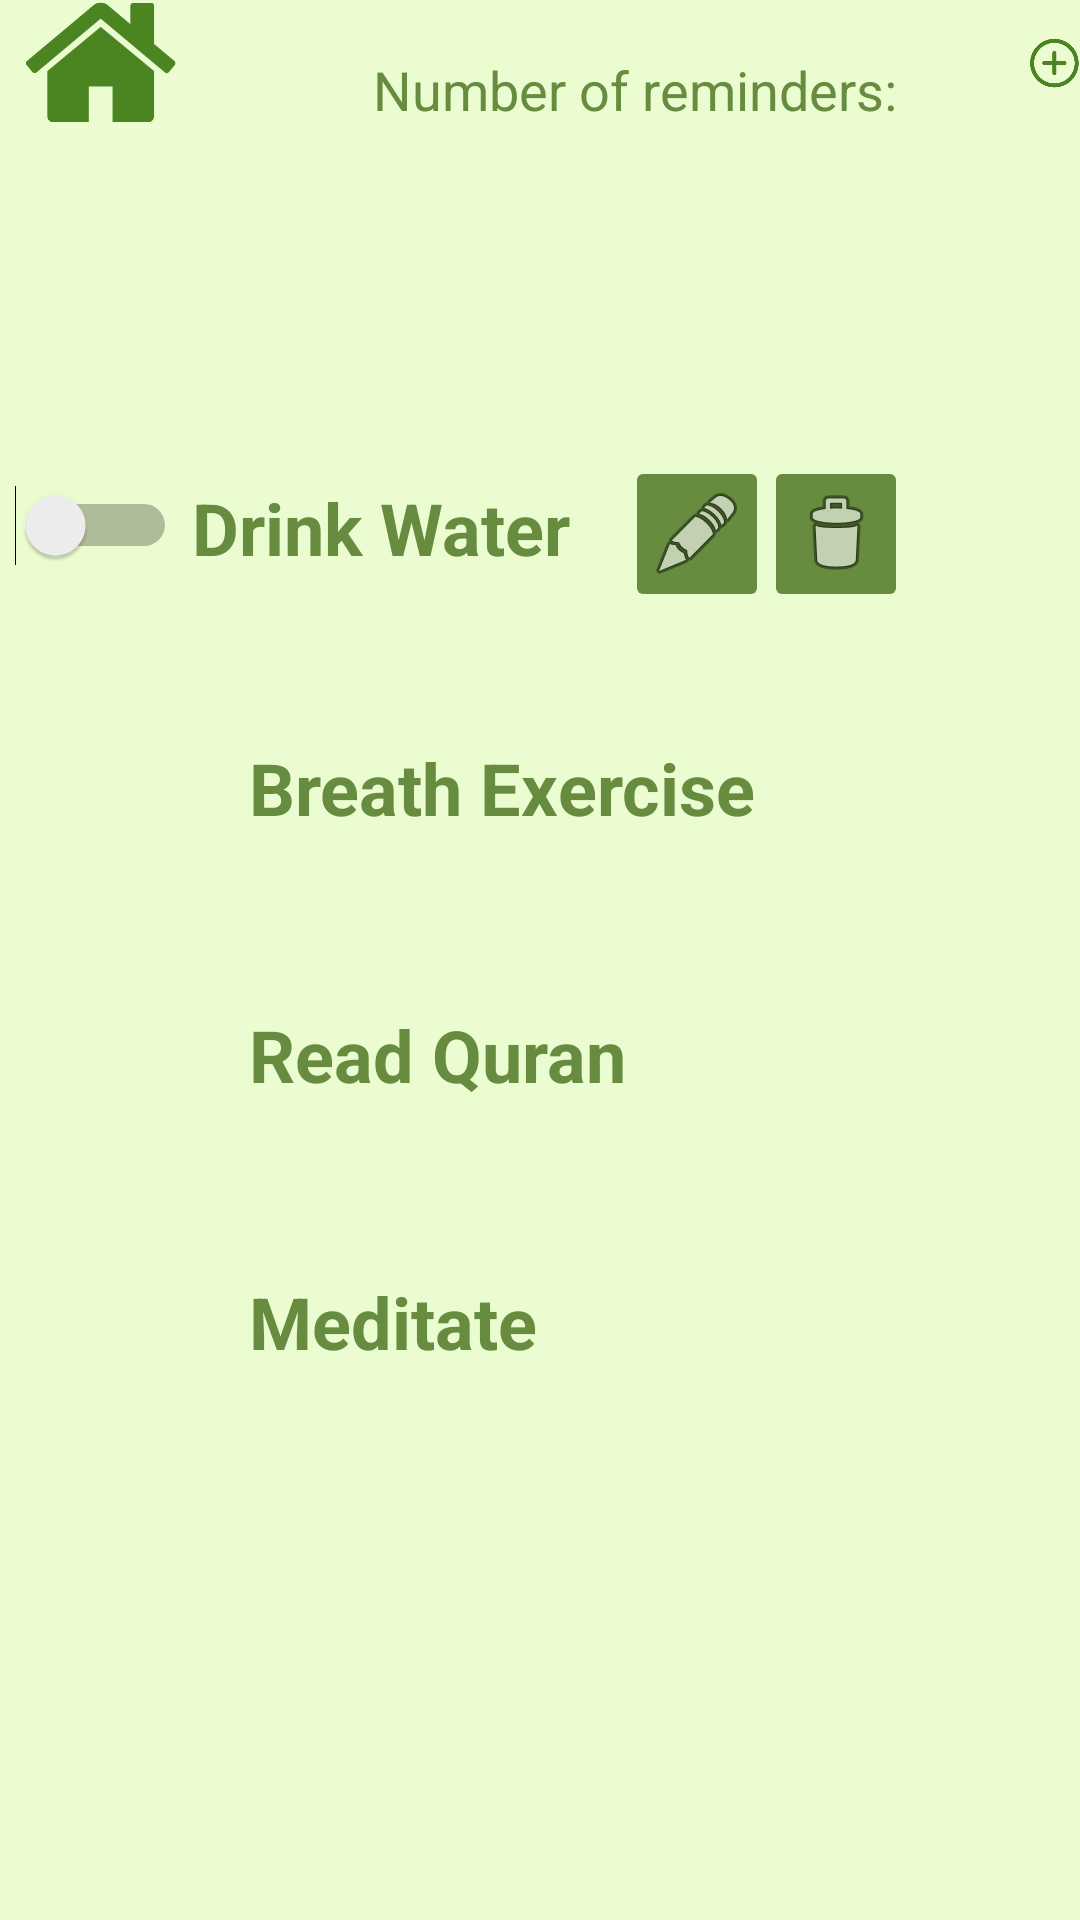

Named icons in this screenshot (1080px x 1920px) and their bounding boxes, [x1,y1,x2,y2]:
addbutton: [1030,39,1079,88]
delete: [776,474,896,594]
edit: [637,474,757,594]
homebutton: [26,2,176,122]
